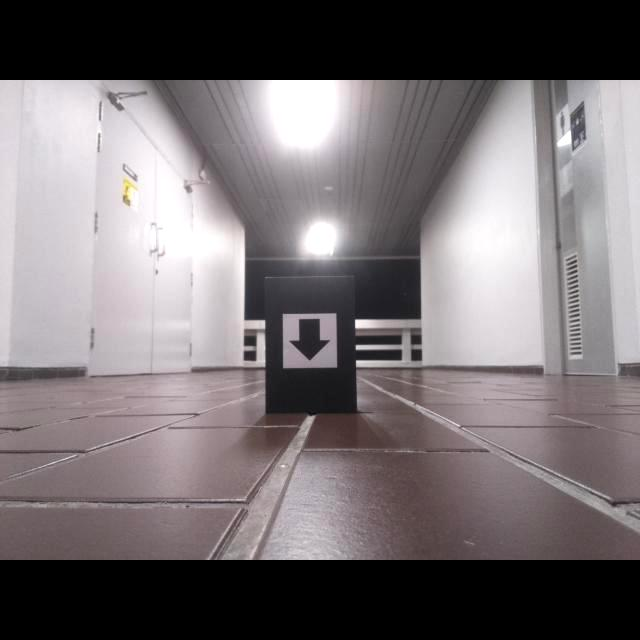DOWN: (287, 319, 331, 362)
